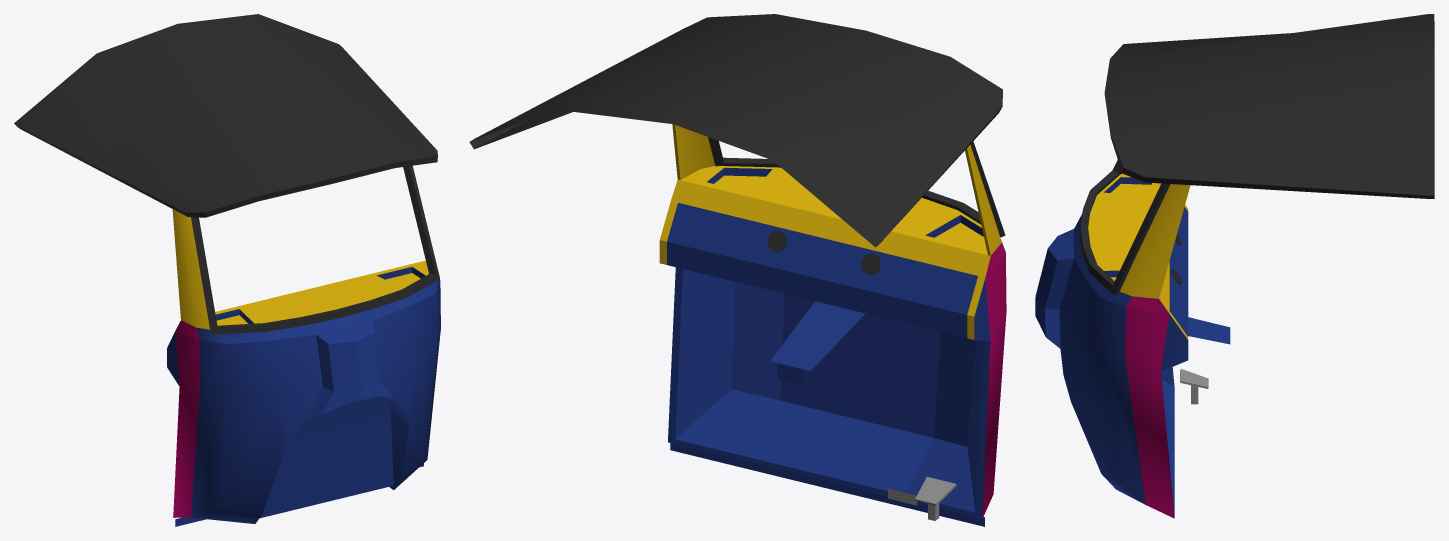
File: TUK TUK 1.FBX
3 views of the same model, side by side, from view 1: azimuth 30°, elevation 25°; view 2: azimuth 150°, elevation 25°; view 3: azimuth 270°, elevation 25° (orthographic). The views are drawn at different scales.
Parts seen in each view (by area): view 1: tuk tuk _Taxi_Blue; view 2: tuk tuk _Taxi_Blue; view 3: tuk tuk _Taxi_Blue.
Boxes of the visible parts, x1,y1,x2,y2 form: tuk tuk _Taxi_Blue: [14, 14, 440, 526]; tuk tuk _Taxi_Blue: [469, 14, 1006, 526]; tuk tuk _Taxi_Blue: [1035, 14, 1434, 518].
Size of the model in its own units: 131 by 147 by 128.
